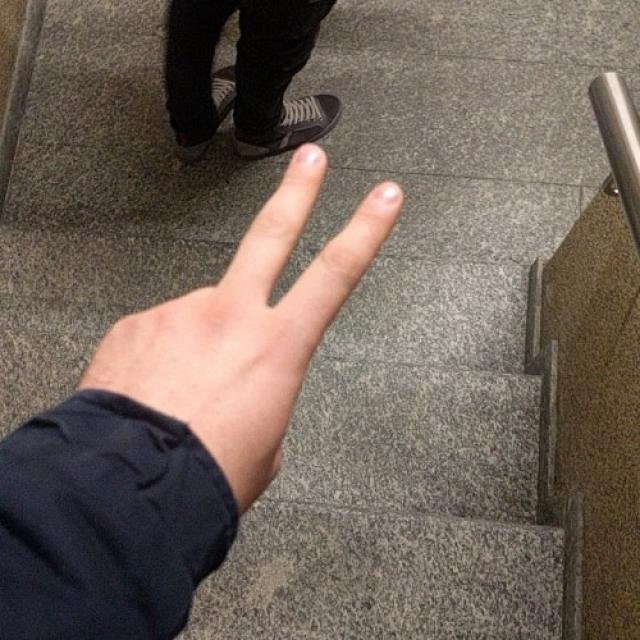scissors: (83, 138, 403, 466)
